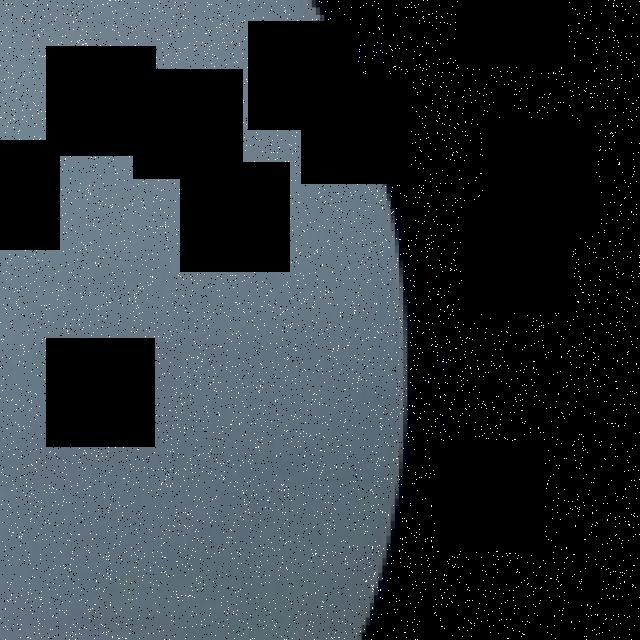Uranus: (0, 0, 411, 640)
